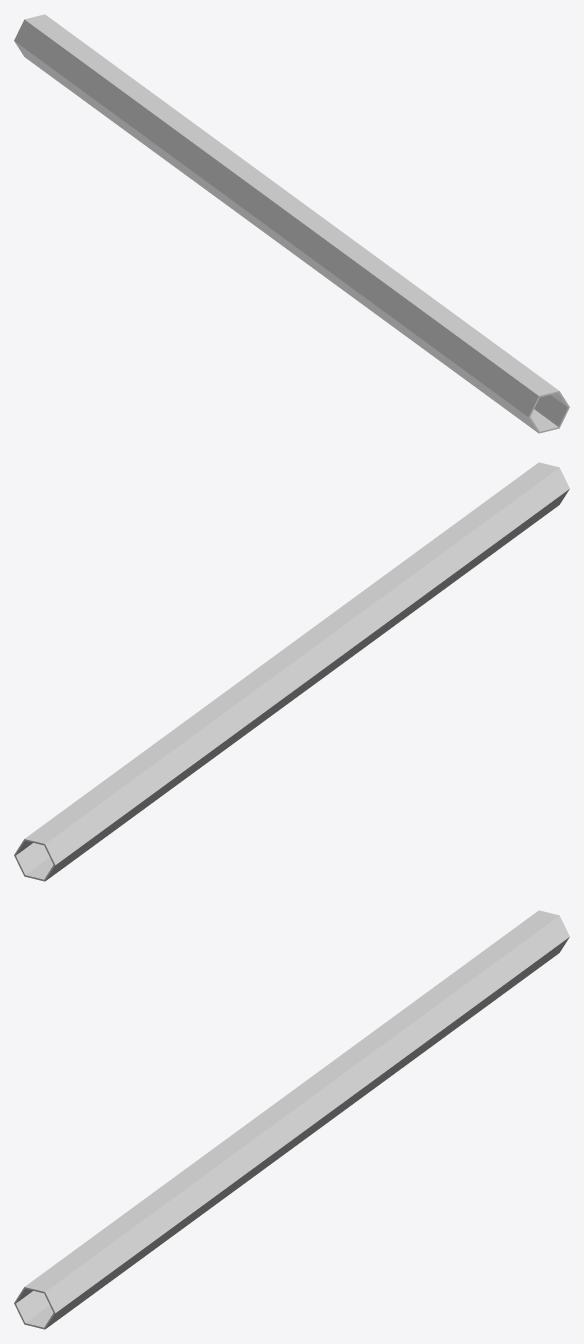
File: Straw 1.fbx
3 views of the same model, one above another, from view 1: azimuth 30°, elevation 25°; view 2: azimuth 150°, elevation 25°; view 3: azimuth 330°, elevation 25° (orthographic).
Visible parts, largest first — view 1: Straw; view 2: Straw; view 3: Straw.
Boxes of the visible parts, <box> form: Straw: <box>14,14,569,433</box>; Straw: <box>14,462,569,881</box>; Straw: <box>14,910,569,1329</box>.
Bounding box in the file's own units: 0.5782 × 0.5008 × 12.44.
1 material, 1 textured.
